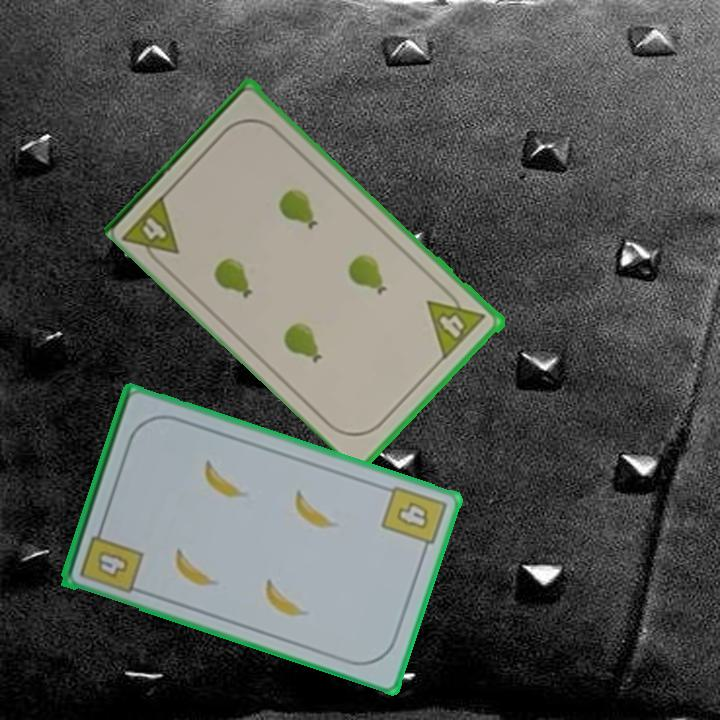4b: (377, 482, 450, 558), (76, 521, 146, 596)
4p: (120, 190, 184, 272), (424, 283, 489, 361)
